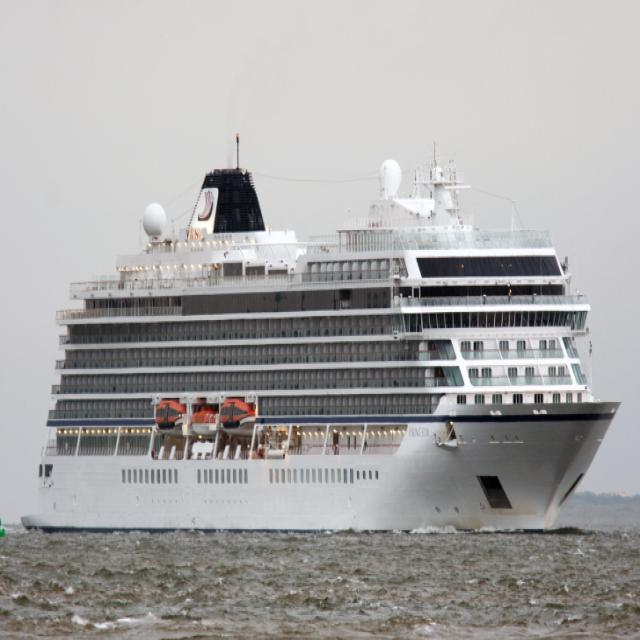cruises: (19, 128, 625, 547)
